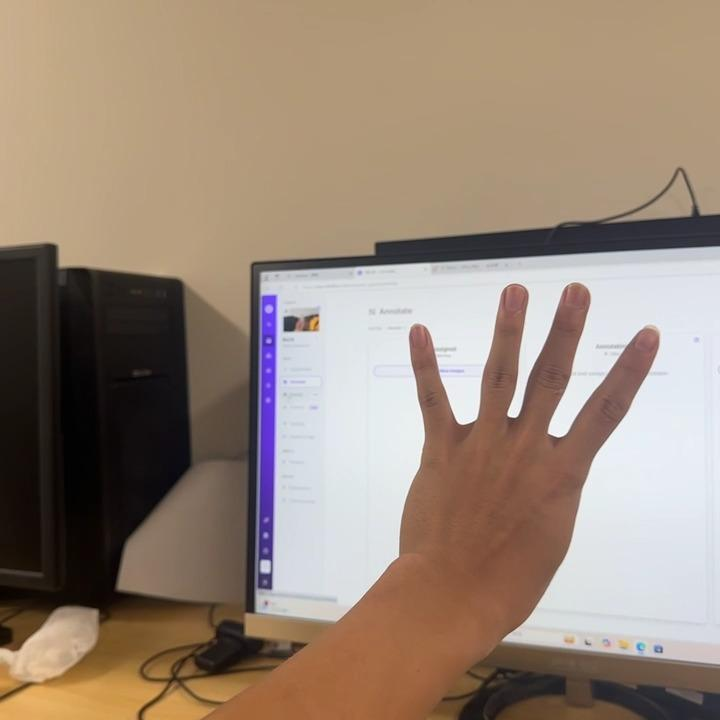without_gloves: (387, 213, 698, 641)
